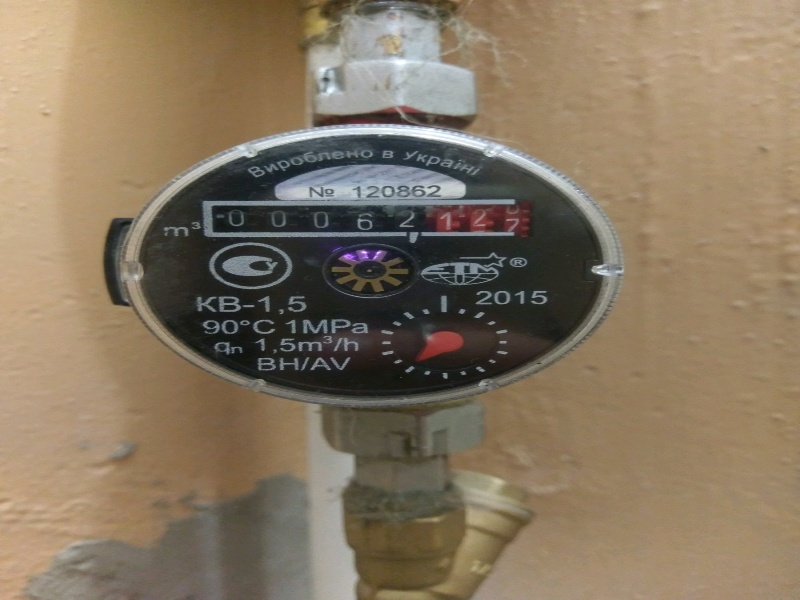meter: (205, 199, 534, 237)
